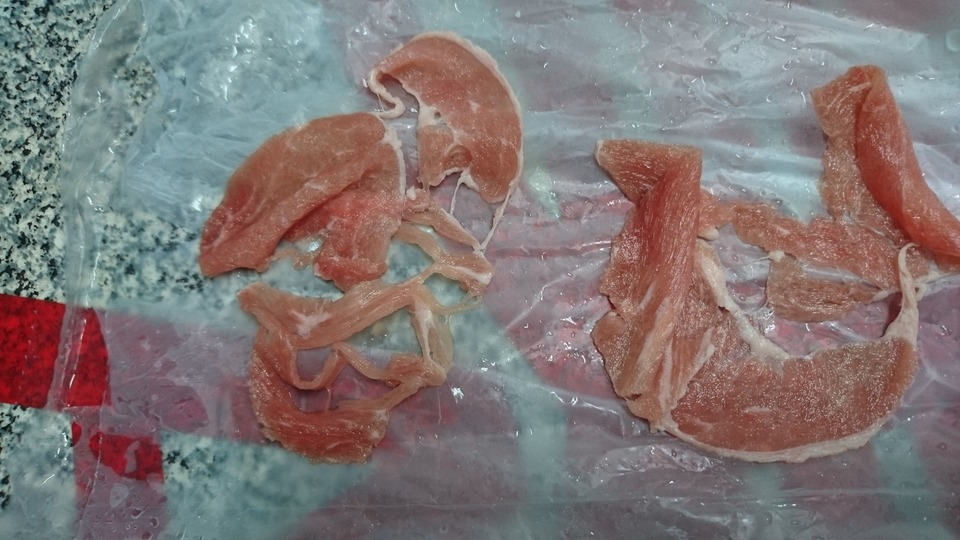restructured meat: (593, 33, 949, 460), (205, 25, 529, 455)
